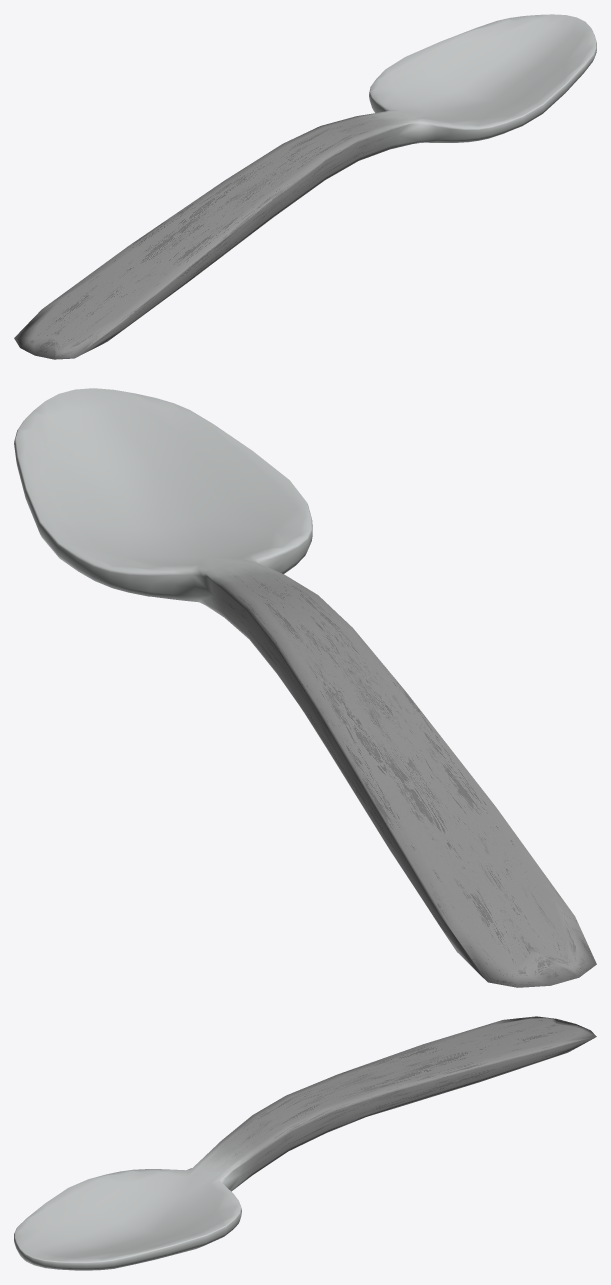
Rendered from spoon.fbx.
3 views of the same model, one above another, from view 1: azimuth 90°, elevation 25°; view 2: azimuth 150°, elevation 25°; view 3: azimuth 270°, elevation 25° (orthographic). The views are drawn at different scales.
Visible parts, largest first — view 1: spoon; view 2: spoon; view 3: spoon.
Boxes of the visible parts, x1=… form: spoon: x1=14, y1=14, x2=596, y2=359; spoon: x1=14, y1=388, x2=596, y2=987; spoon: x1=14, y1=1016, x2=596, y2=1270.
Size of the model in its own units: 12.33 by 1.28 by 10.3.
